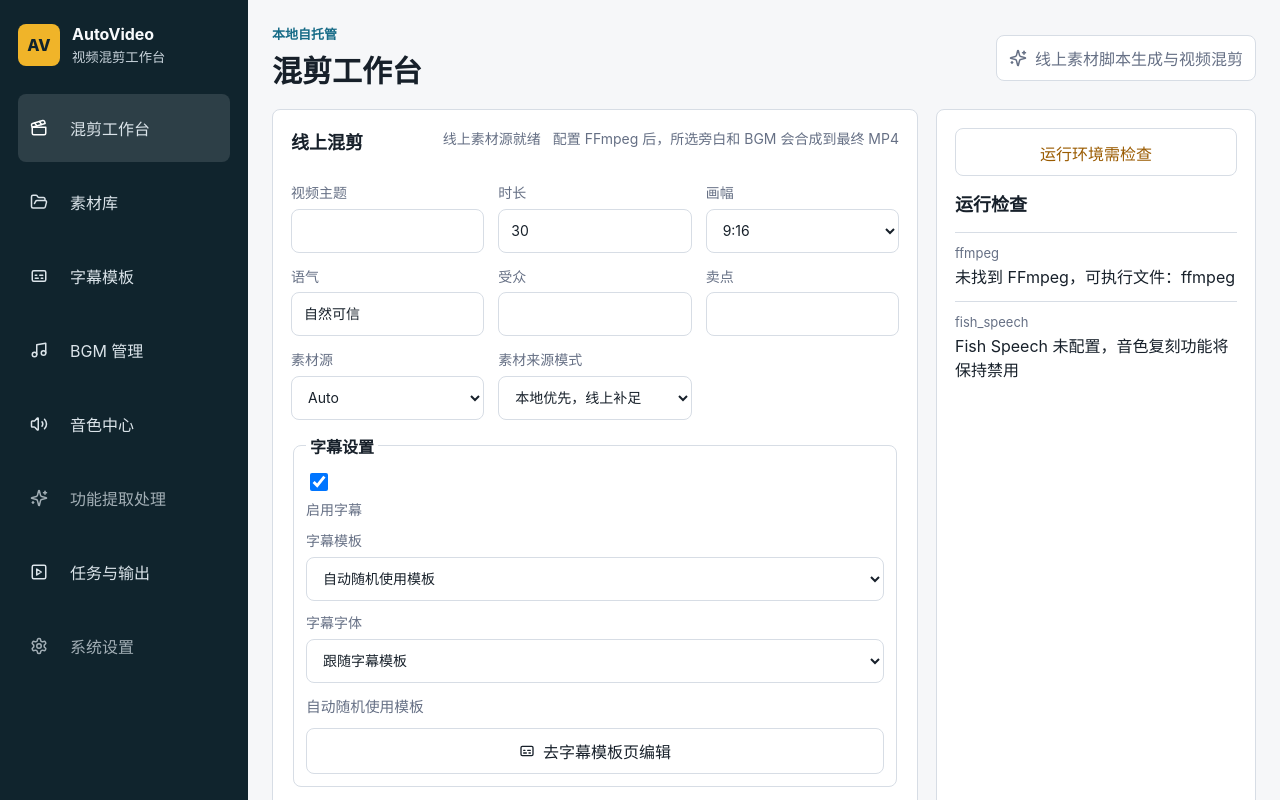
Test case: AutoVideo shell › deletes a task from the task output list after confirmation
This screenshot has width=1280, height=800.
Click the link "任务与输出".
click(90, 573)  # box [30,563,150,583]
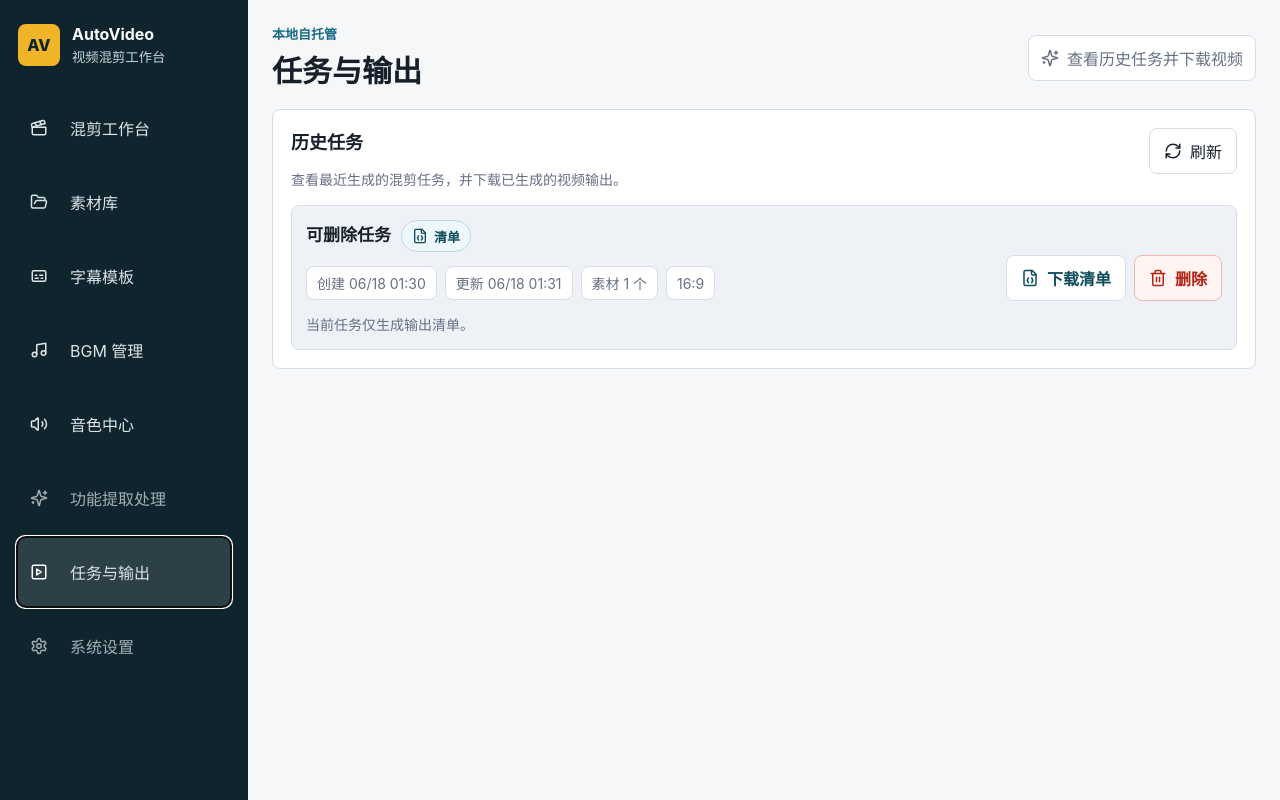
Click the button with aria-label "删除任务 可删除任务".
click(1178, 278)  # box [1134,255,1222,301]
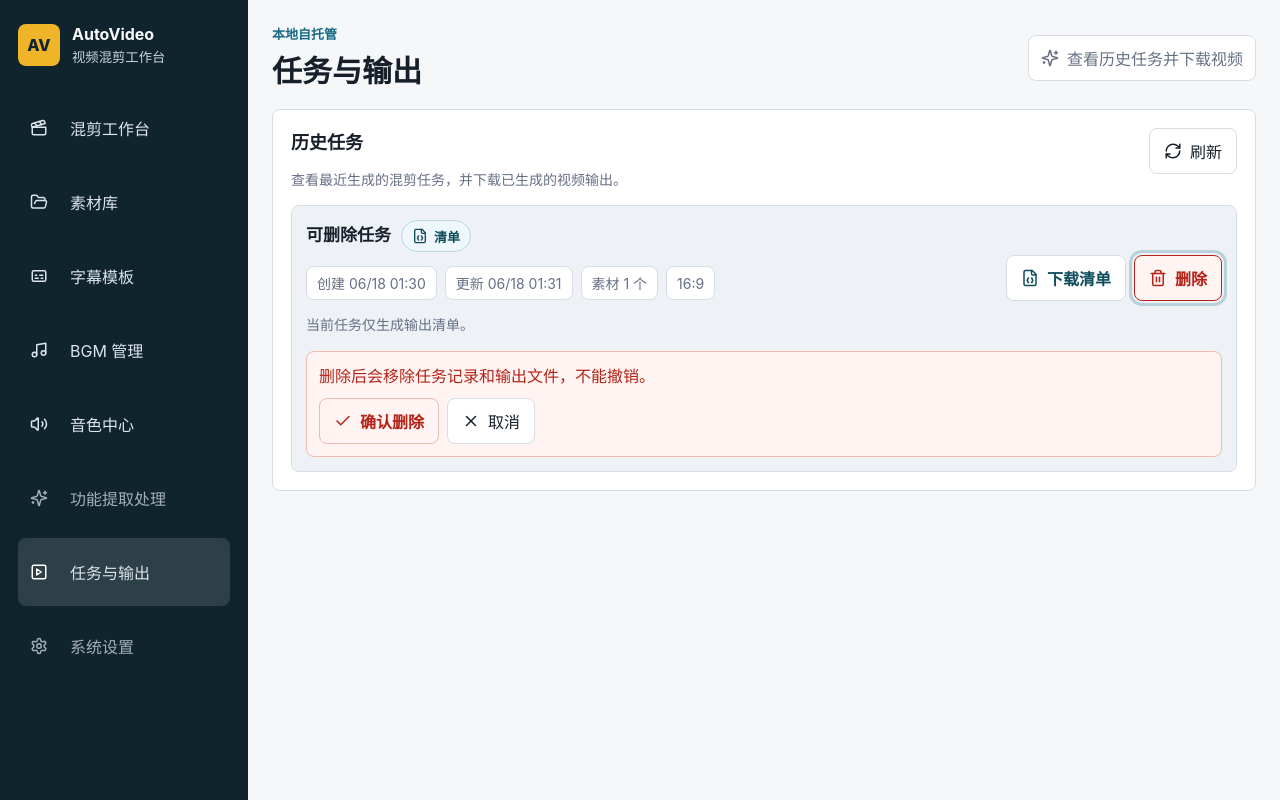
Now the element named "确认删除 可删除任务" is shown, box [306,351,1222,457]
Click the button "确认删除".
click(379, 421)  # box [319,398,439,444]
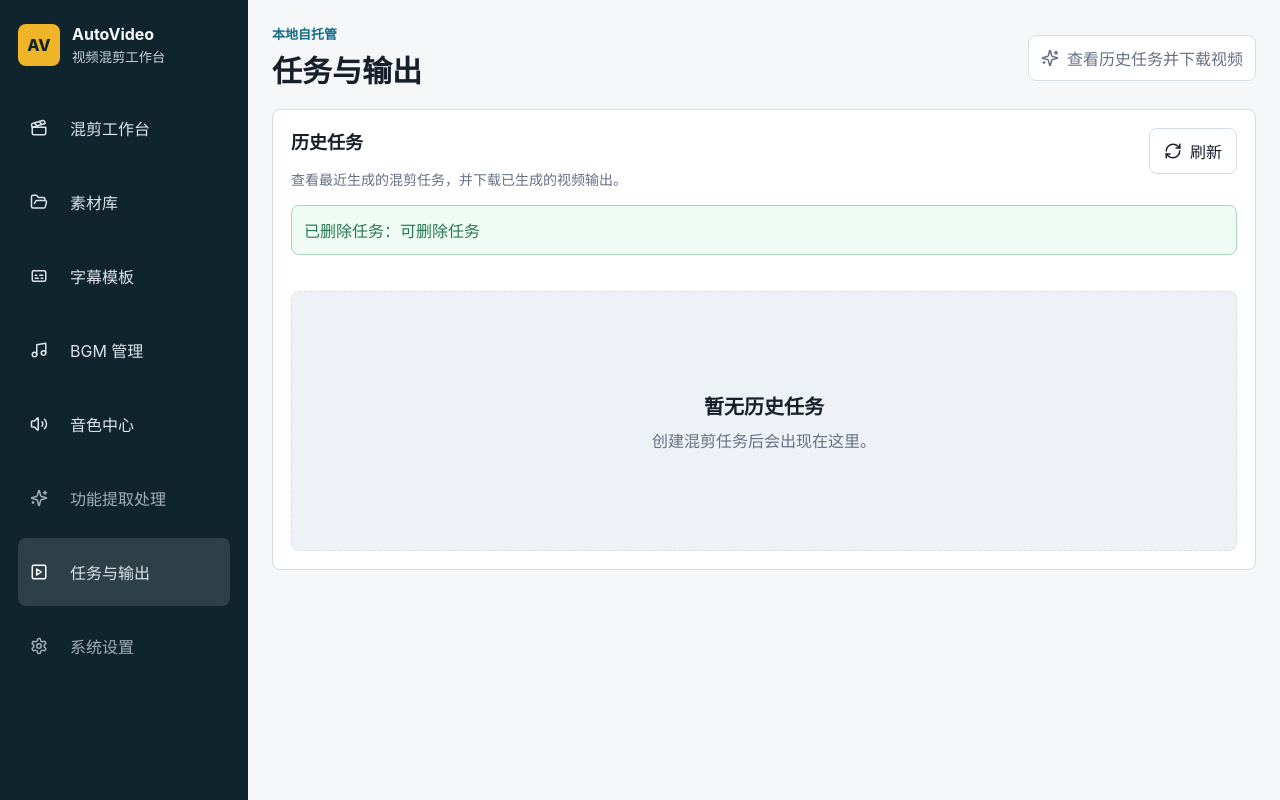
Now the text "已删除任务：可删除任务" is shown, box [304,218,480,242]
Now the text "暂无历史任务" is shown, box [704,395,824,419]
